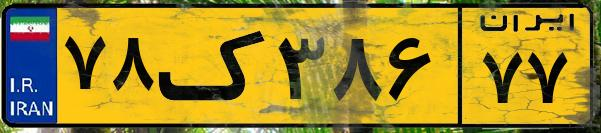3: (270, 28, 330, 110)
6: (385, 28, 445, 110)
7: (57, 26, 110, 100), (475, 38, 525, 113), (525, 38, 570, 115)
8: (330, 28, 385, 110), (110, 28, 158, 98)
ک: (158, 12, 270, 120)
